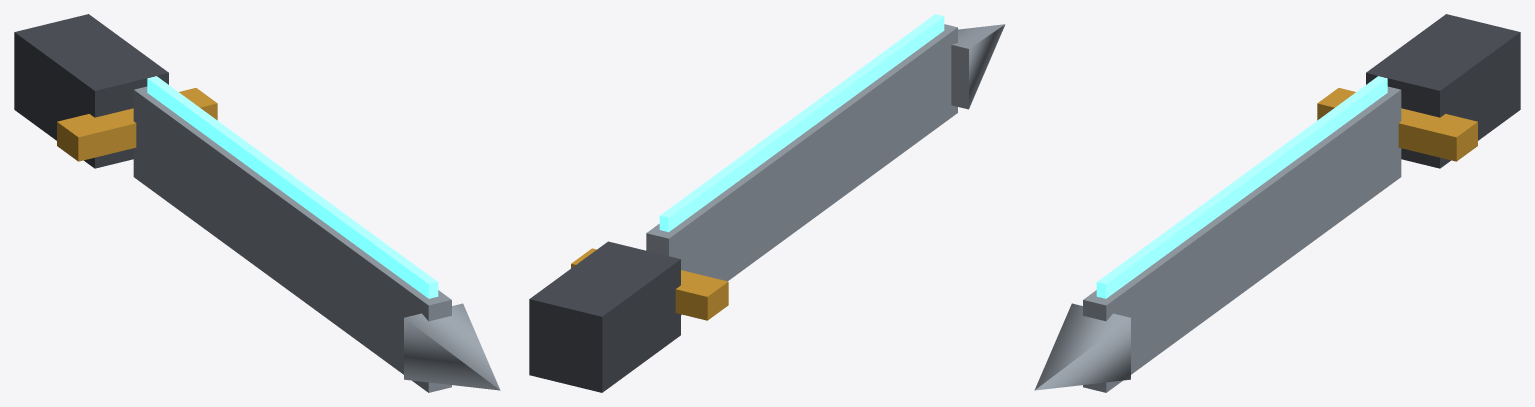
The model's file is wpn_blade.glb.
The picture shows the model from 3 angles, left to right: view 1: azimuth 30°, elevation 25°; view 2: azimuth 150°, elevation 25°; view 3: azimuth 330°, elevation 25°; orthographic projection. The views are drawn at different scales.
Visible parts, largest first — view 1: weapon; view 2: weapon; view 3: weapon.
Boxes of the visible parts, left/top/right/bottom form: weapon: left=14, top=14, right=500, bottom=392; weapon: left=529, top=14, right=1005, bottom=392; weapon: left=1034, top=14, right=1520, bottom=392.
Bounding box in the file's own units: 0.3 × 0.21 × 1.68.
